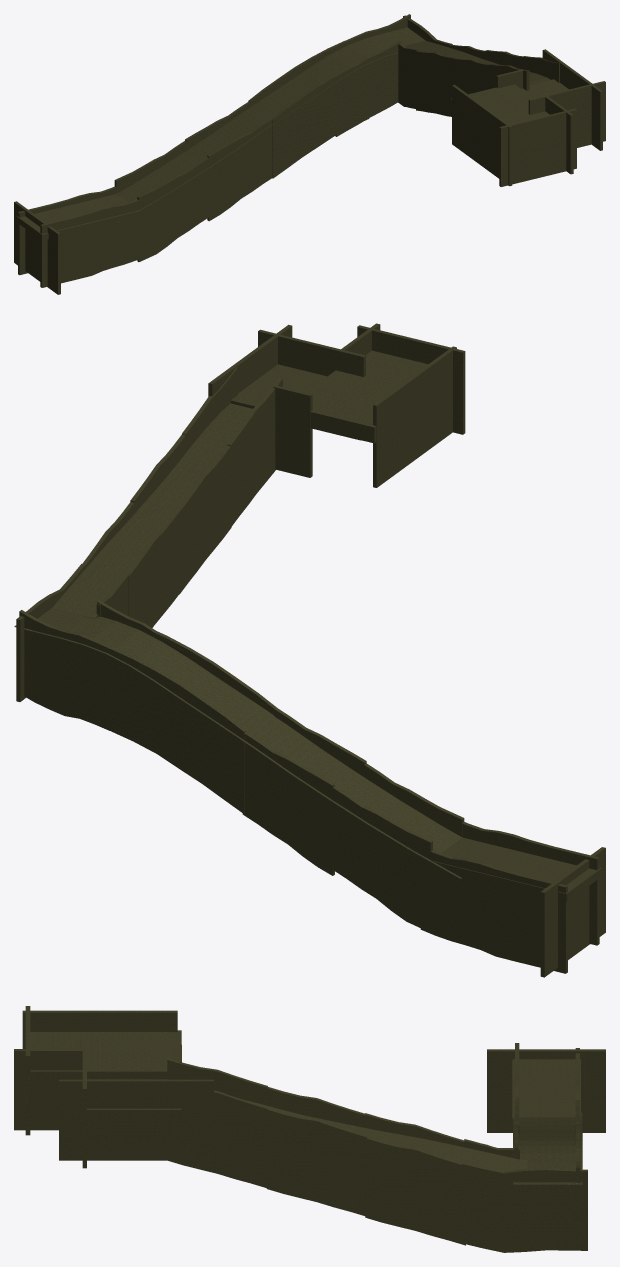
Rendered from planeGroundMap_nextMoveRoot.glb.
The picture shows the model from 3 angles, top to bottom: view 1: azimuth 30°, elevation 25°; view 2: azimuth 150°, elevation 25°; view 3: azimuth 270°, elevation 25°; orthographic projection. The views are drawn at different scales.
Visible parts, largest first — view 1: nextMoveRoot.004, nextMoveRoot.020, nextMoveRoot.021, nextMoveRoot.031, nextMoveRoot.026, nextMoveRoot.024, nextMoveRoot.005, nextMoveRoot.013, nextMoveRoot.030, nextMoveRoot, nextMoveRoot.016, nextMoveRoot.007 (+17 smaller); view 2: nextMoveRoot.004, nextMoveRoot.018, nextMoveRoot.029, nextMoveRoot.027, nextMoveRoot.003, nextMoveRoot.025, nextMoveRoot.017, nextMoveRoot.005, nextMoveRoot.001, nextMoveRoot.011, nextMoveRoot.012, nextMoveRoot.013 (+14 smaller); view 3: nextMoveRoot.008, nextMoveRoot.015, nextMoveRoot.032, nextMoveRoot.014, nextMoveRoot.001, nextMoveRoot.030, nextMoveRoot.009, nextMoveRoot.004, nextMoveRoot, nextMoveRoot.006, nextMoveRoot.005, nextMoveRoot.003 (+8 smaller).
Part boxes in pixels (x1=…): nextMoveRoot.004: x1=116, y1=27, x2=425, y2=223; nextMoveRoot.020: x1=272, y1=60, x2=369, y2=178; nextMoveRoot.021: x1=40, y1=197, x2=145, y2=287; nextMoveRoot.031: x1=499, y1=108, x2=576, y2=186; nextMoveRoot.026: x1=137, y1=157, x2=208, y2=261; nextMoveRoot.024: x1=207, y1=117, x2=273, y2=221; nextMoveRoot.005: x1=452, y1=84, x2=512, y2=186; nextMoveRoot.013: x1=416, y1=51, x2=455, y2=116; nextMoveRoot.030: x1=14, y1=201, x2=60, y2=294; nextMoveRoot: x1=17, y1=194, x2=141, y2=240; nextMoveRoot.016: x1=335, y1=40, x2=400, y2=136; nextMoveRoot.007: x1=528, y1=81, x2=605, y2=147; nextMoveRoot.004: x1=14, y1=608, x2=462, y2=878; nextMoveRoot.018: x1=109, y1=647, x2=246, y2=813; nextMoveRoot.029: x1=420, y1=847, x2=567, y2=973; nextMoveRoot.027: x1=331, y1=786, x2=432, y2=927; nextMoveRoot.003: x1=52, y1=403, x2=252, y2=618; nextMoveRoot.025: x1=242, y1=732, x2=334, y2=875; nextMoveRoot.017: x1=19, y1=610, x2=110, y2=730; nextMoveRoot.005: x1=373, y1=346, x2=456, y2=487; nextMoveRoot.001: x1=306, y1=350, x2=427, y2=443; nextMoveRoot.011: x1=177, y1=445, x2=231, y2=594; nextMoveRoot.012: x1=227, y1=377, x2=282, y2=526; nextMoveRoot.013: x1=127, y1=509, x2=180, y2=627; nextMoveRoot.008: x1=59, y1=1079, x2=213, y2=1160; nextMoveRoot.015: x1=462, y1=1162, x2=587, y2=1252; nextMoveRoot.032: x1=266, y1=1108, x2=367, y2=1216; nextMoveRoot.014: x1=365, y1=1137, x2=465, y2=1245; nextMoveRoot.001: x1=30, y1=1030, x2=181, y2=1086; nextMoveRoot.030: x1=487, y1=1049, x2=605, y2=1132; nextMoveRoot.009: x1=167, y1=1079, x2=267, y2=1188; nextMoveRoot.004: x1=513, y1=1112, x2=582, y2=1192; nextMoveRoot: x1=512, y1=1059, x2=580, y2=1126; nextMoveRoot.006: x1=14, y1=1049, x2=84, y2=1130; nextMoveRoot.005: x1=22, y1=1010, x2=177, y2=1048; nextMoveRoot.003: x1=245, y1=1100, x2=527, y2=1171.
Size of the model in its own units: 2387 by 1288 by 2243.
1 material, 1 textured.
